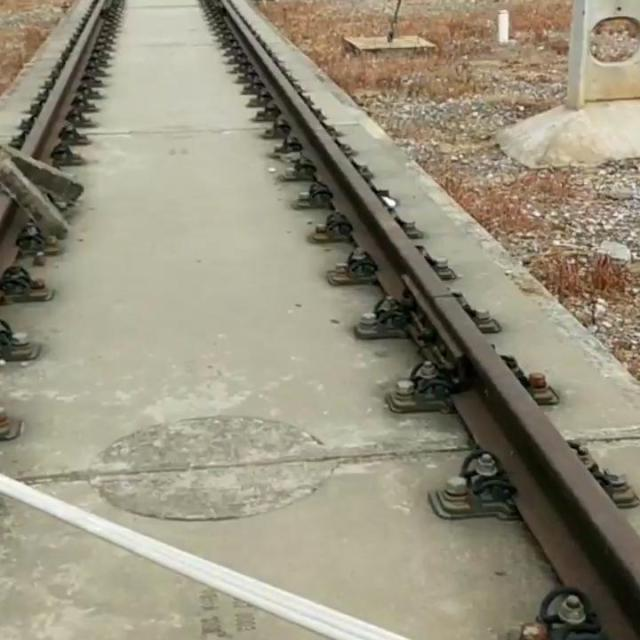rail: (223, 0, 640, 633), (20, 0, 107, 159)
